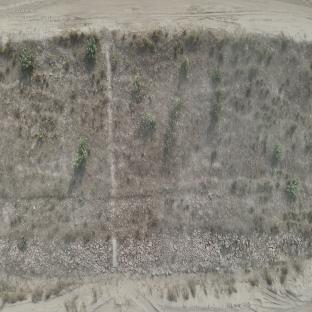rock_toe: (119, 229, 311, 275), (0, 238, 110, 276)
slope_drain: (101, 39, 119, 268)
